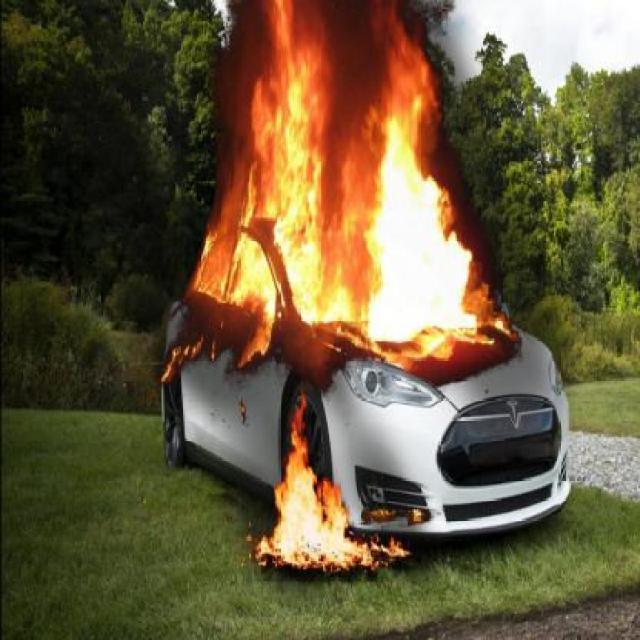Fire: (193, 0, 479, 338), (251, 409, 373, 567)
